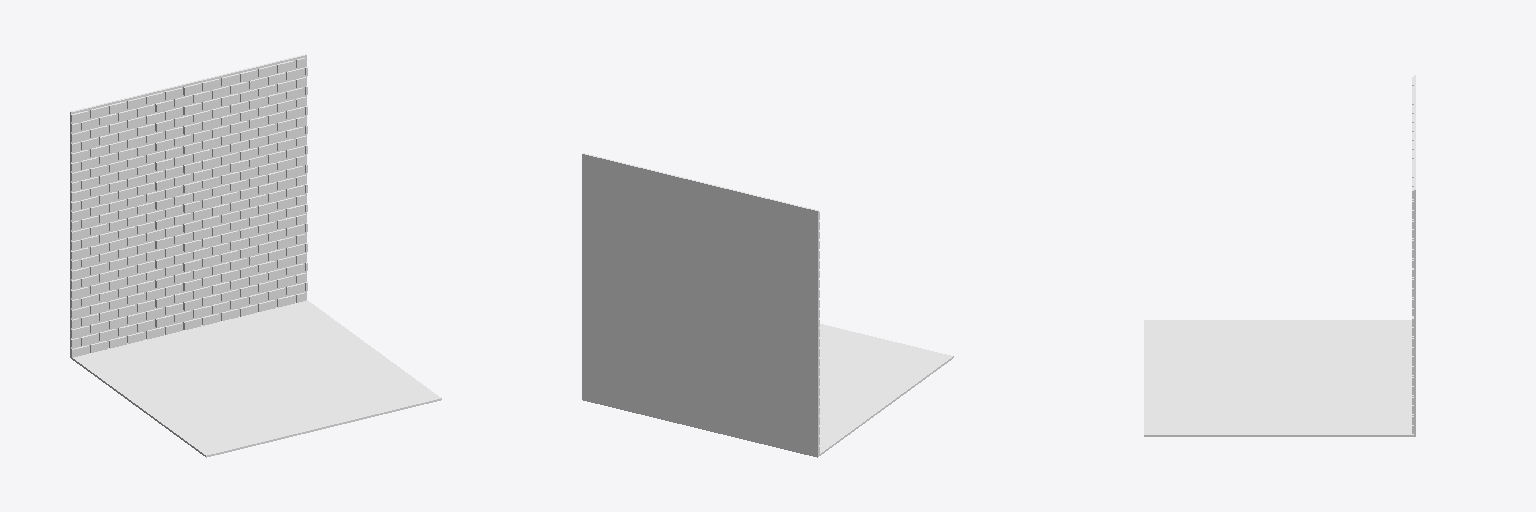
File: стена-12.obj
3 views of the same model, side by side, from view 1: azimuth 30°, elevation 25°; view 2: azimuth 150°, elevation 25°; view 3: azimuth 270°, elevation 25° (orthographic).
Parts seen in each view (by area): view 1: object 1; view 2: object 1; view 3: object 1.
Part boxes in pixels (left/top/right/bottom): object 1: left=70, top=54, right=441, bottom=457; object 1: left=582, top=153, right=953, bottom=457; object 1: left=1144, top=75, right=1415, bottom=436.
Size of the model in its own units: 12.6 by 12.6 by 12.6.